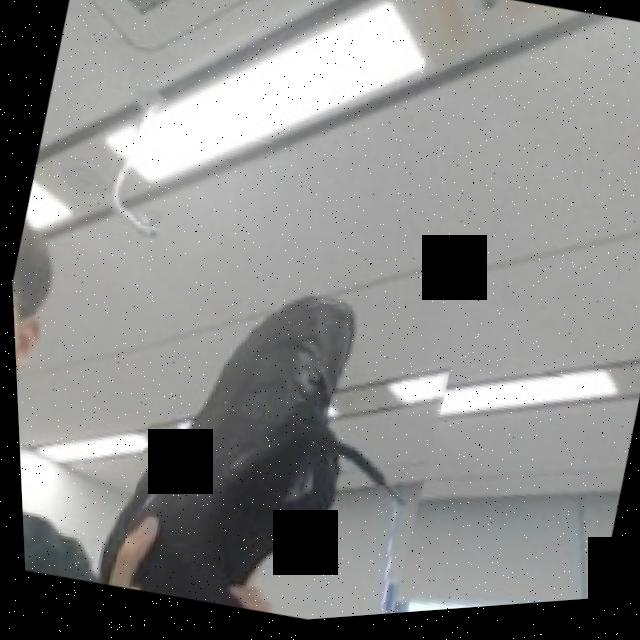shoe: (97, 207, 482, 635)
